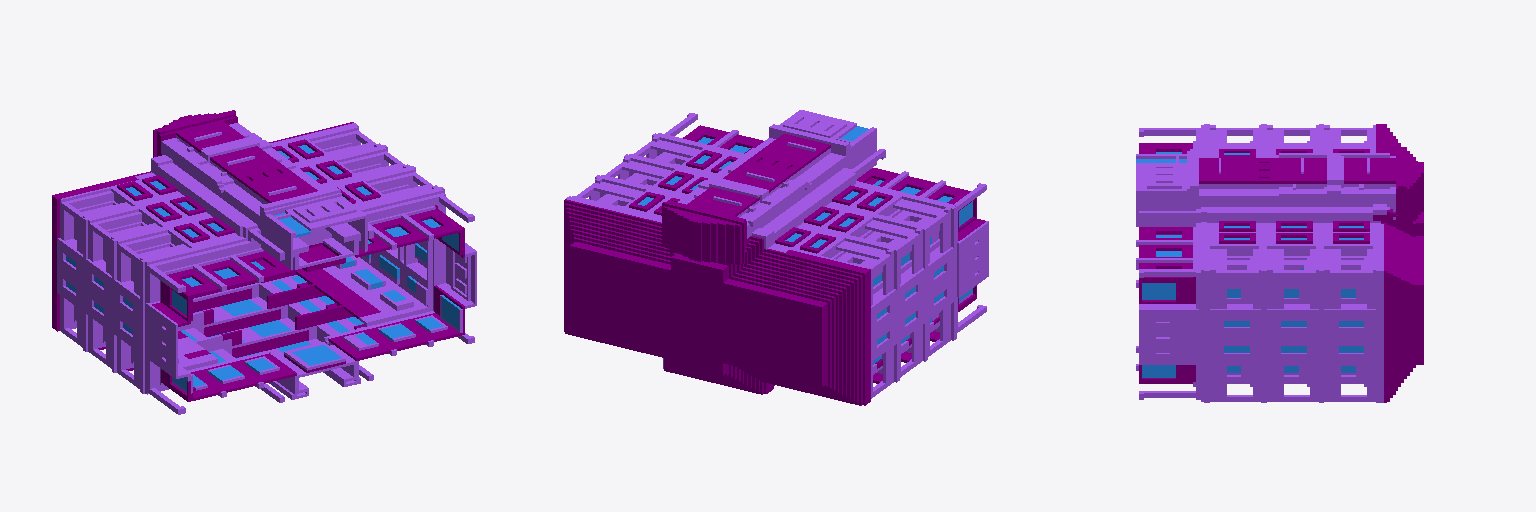
3 views of the same model, side by side, from view 1: azimuth 30°, elevation 25°; view 2: azimuth 150°, elevation 25°; view 3: azimuth 270°, elevation 25° (orthographic).
Parts seen in each view (by area): view 1: object 1; view 2: object 1; view 3: object 1.
Part boxes in pixels (bbox=[...]): object 1: bbox=[52, 110, 476, 414]; object 1: bbox=[564, 110, 988, 405]; object 1: bbox=[1136, 124, 1423, 402].
Size of the model in its own units: 12.2 by 6.9 by 10.1.
1 materials, 1 textured.